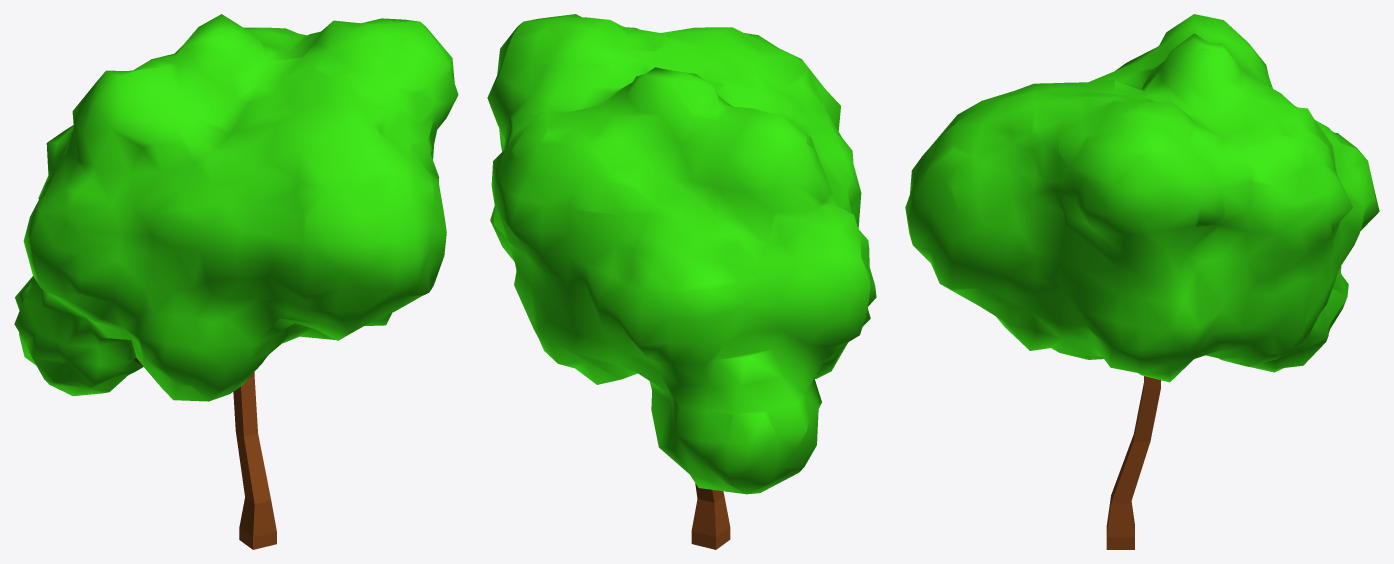
Rendered from SM_AppleTree_001.fbx.
3 renders of one model, left to right at view 1: azimuth 30°, elevation 25°; view 2: azimuth 150°, elevation 25°; view 3: azimuth 270°, elevation 25°, orthographic. The views are drawn at different scales.
Visible parts, largest first — view 1: AppleTree; view 2: AppleTree; view 3: AppleTree.
Part boxes in pixels (bbox=[...]): AppleTree: bbox=[14, 14, 458, 549]; AppleTree: bbox=[487, 14, 876, 549]; AppleTree: bbox=[905, 14, 1379, 549].
Size of the model in its own units: 288 by 345 by 296.
